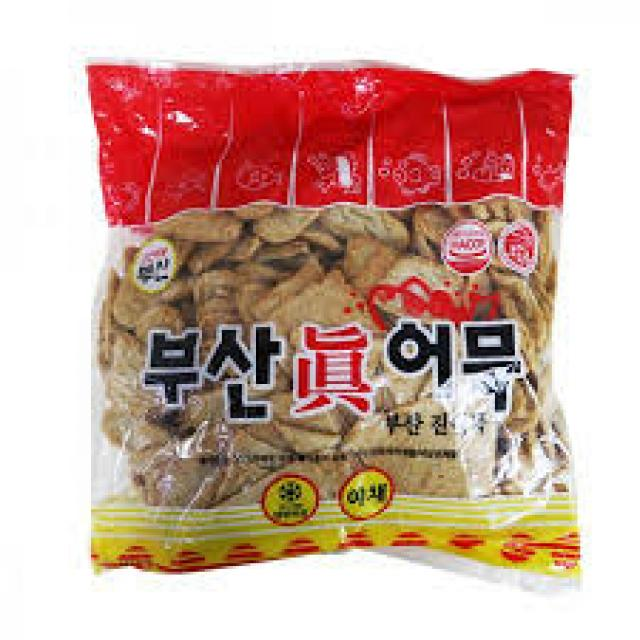fish_cake: (77, 48, 583, 598)
